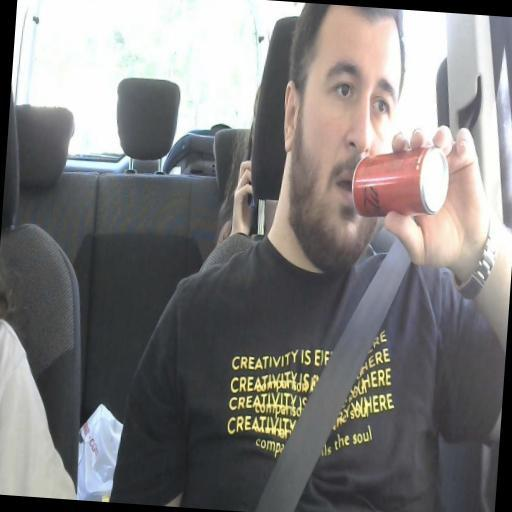Drinking: (283, 13, 479, 264)
